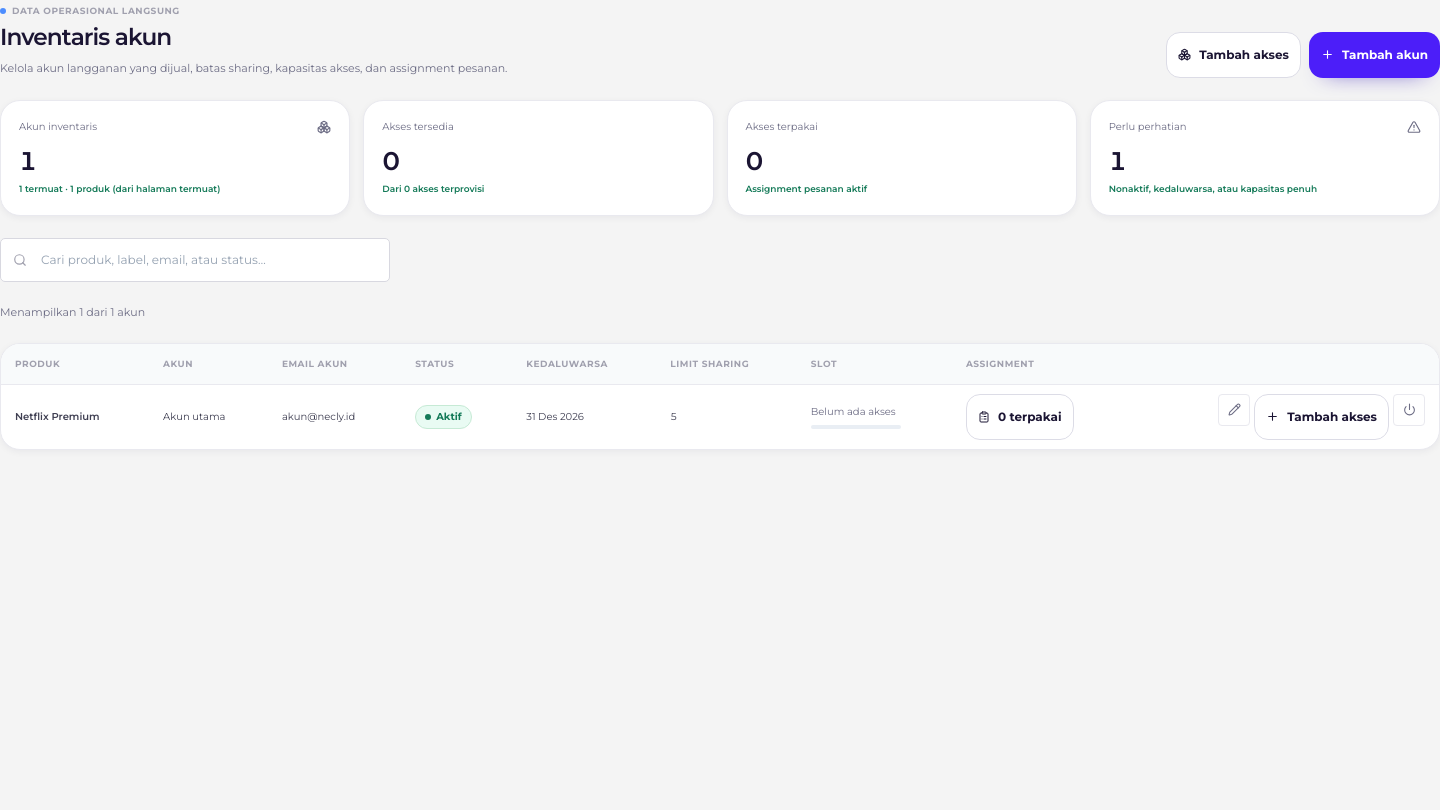
Halaman Inventaris akun › menampilkan ajakan tambah akses saat akun belum punya slot
Expected: the text "Akun utama" is shown, [149,384,268,449]
Expected: the text "Belum ada akses" is shown, [811,405,896,418]
Click the button with aria-label "Tambah akses ke Akun utama" at [1322, 417], box [1254,394,1389,440]
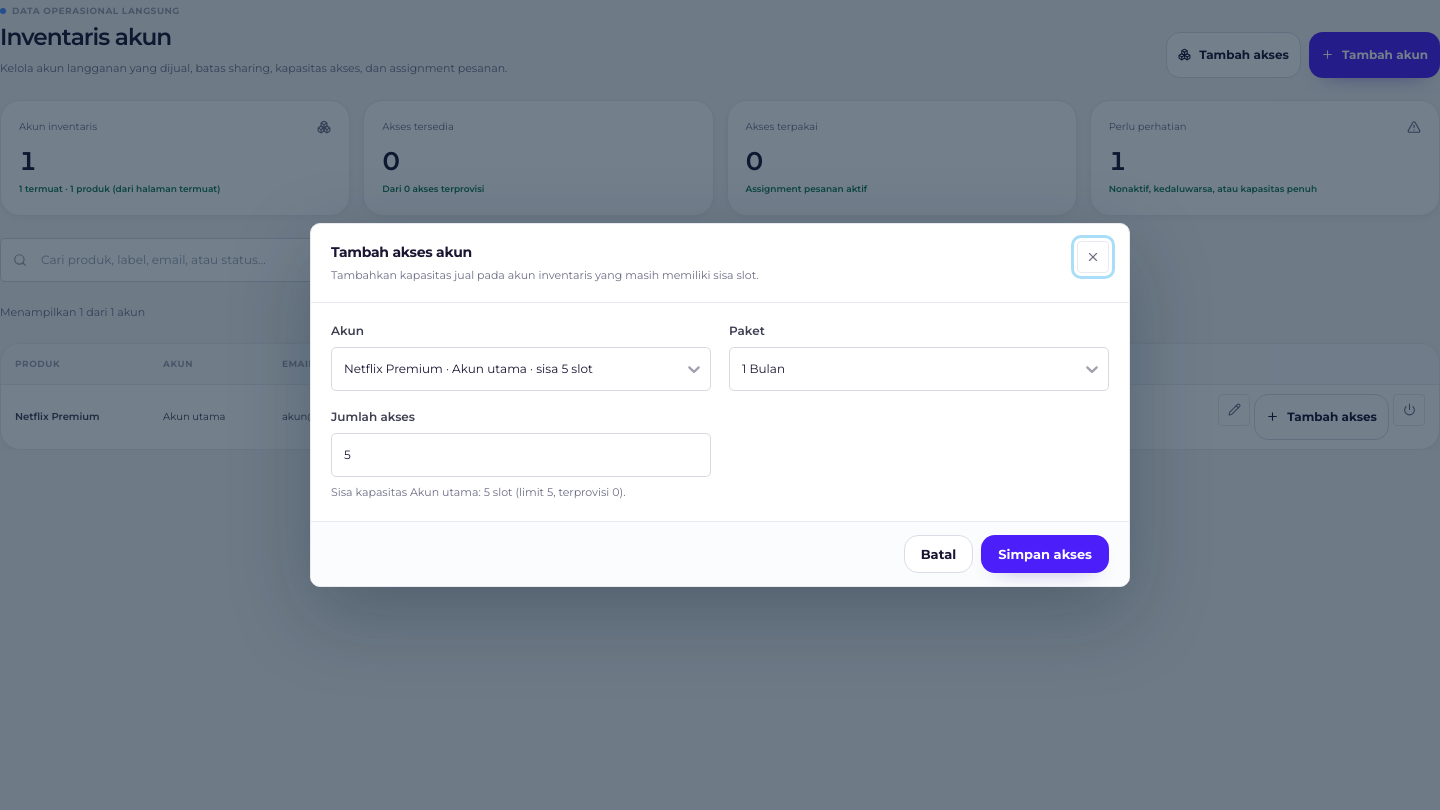
Expected: the text with class "necly-select__single-value" shows "Akun utama", [344,361,593,376]
Expected: the text with class "necly-select__single-value" reads "1 Bulan", [742,361,785,376]
